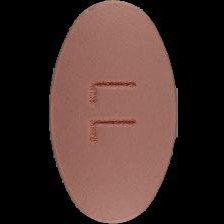53808-0794: (0, 0, 224, 224)
